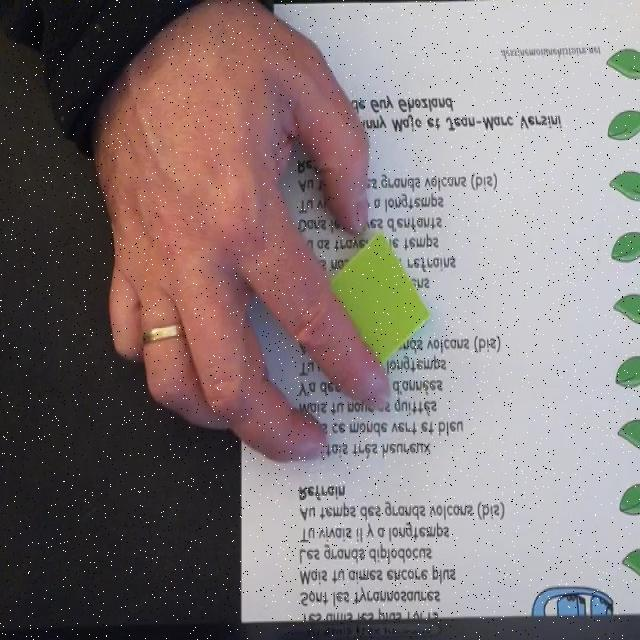square: (318, 230, 432, 378)
